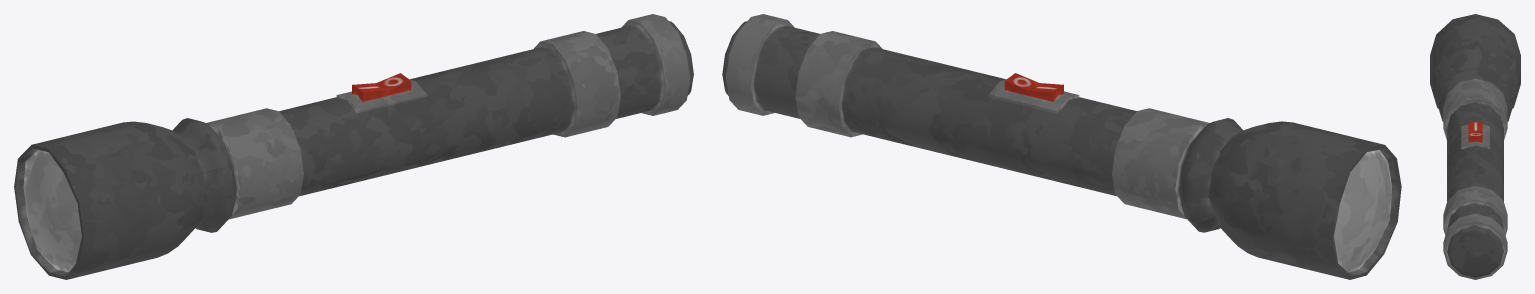
Rendered from Flashlight_GEO.glb.
3 views of the same model, side by side, from view 1: azimuth 30°, elevation 25°; view 2: azimuth 150°, elevation 25°; view 3: azimuth 270°, elevation 25° (orthographic). The views are drawn at different scales.
Parts seen in each view (by area): view 1: Flashlight_GEO; view 2: Flashlight_GEO; view 3: Flashlight_GEO.
Boxes of the visible parts, bbox=[...] form: Flashlight_GEO: bbox=[14, 14, 693, 279]; Flashlight_GEO: bbox=[722, 14, 1401, 279]; Flashlight_GEO: bbox=[1430, 14, 1520, 279].
Size of the model in its own units: 4.01 by 0.7658 by 0.7658.
1 material, 1 textured.
